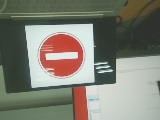stop: (33, 29, 91, 82)
